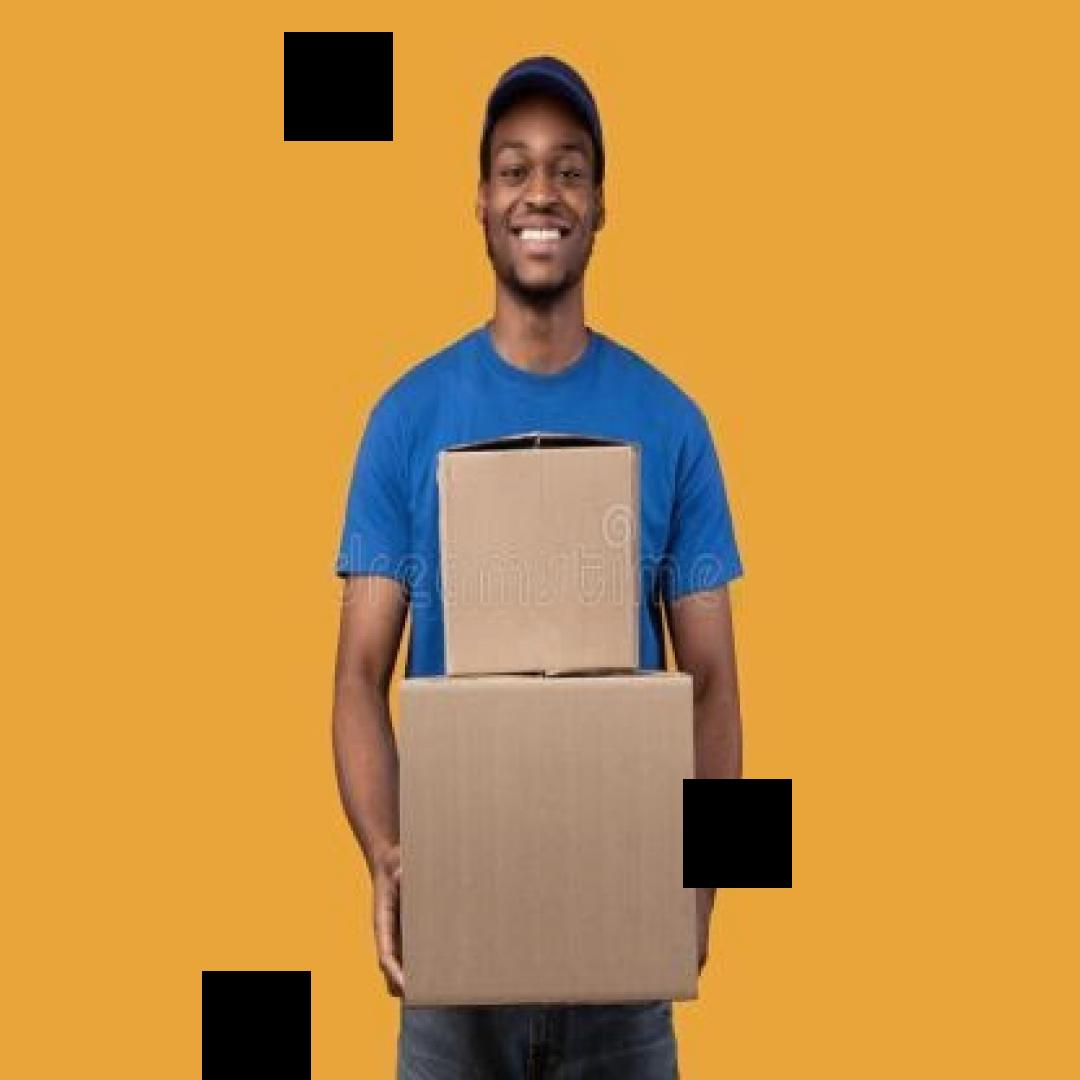package: (392, 678, 704, 1010), (420, 418, 650, 678)
